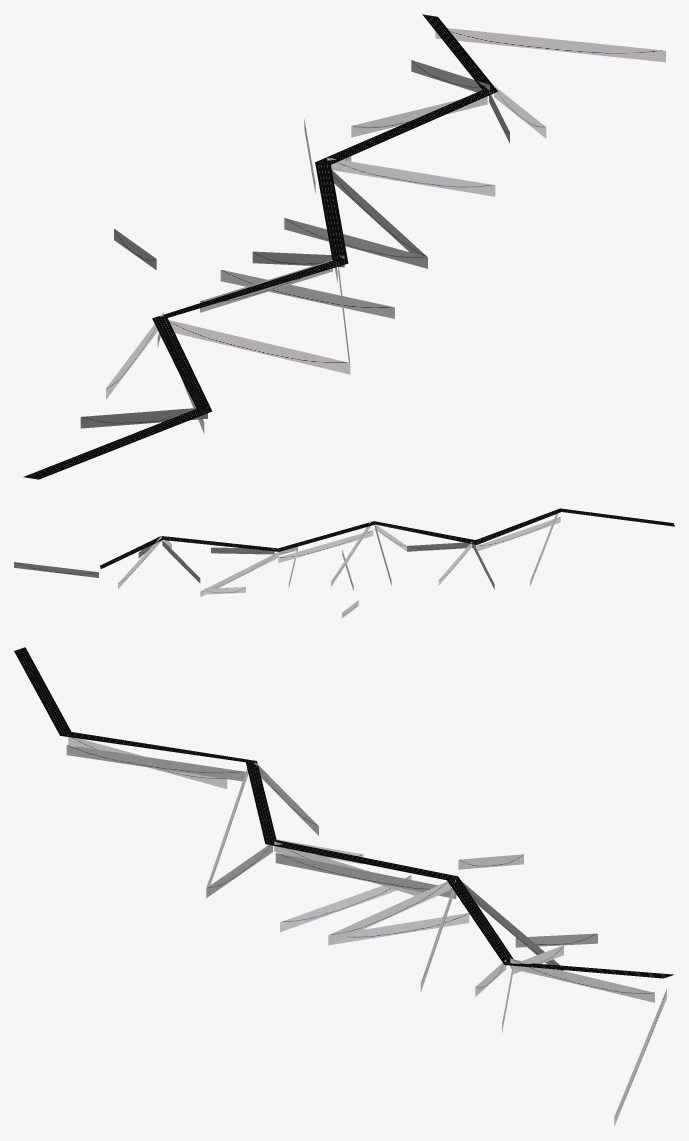
File: w_townwires_01.obj
3 renders of one model, top to bottom at view 1: azimuth 30°, elevation 25°; view 2: azimuth 150°, elevation 25°; view 3: azimuth 270°, elevation 25°, orthographic. The views are drawn at different scales.
Visible parts, largest first — view 1: w_townwires_01; view 2: w_townwires_01; view 3: w_townwires_01.
Boxes of the visible parts, x1,y1,x2,y2 form: w_townwires_01: [23, 14, 665, 479]; w_townwires_01: [14, 508, 674, 618]; w_townwires_01: [14, 647, 673, 1126].
Bounding box in the file's own units: 132 × 10.87 × 88.73.
2 materials, 2 textured.
